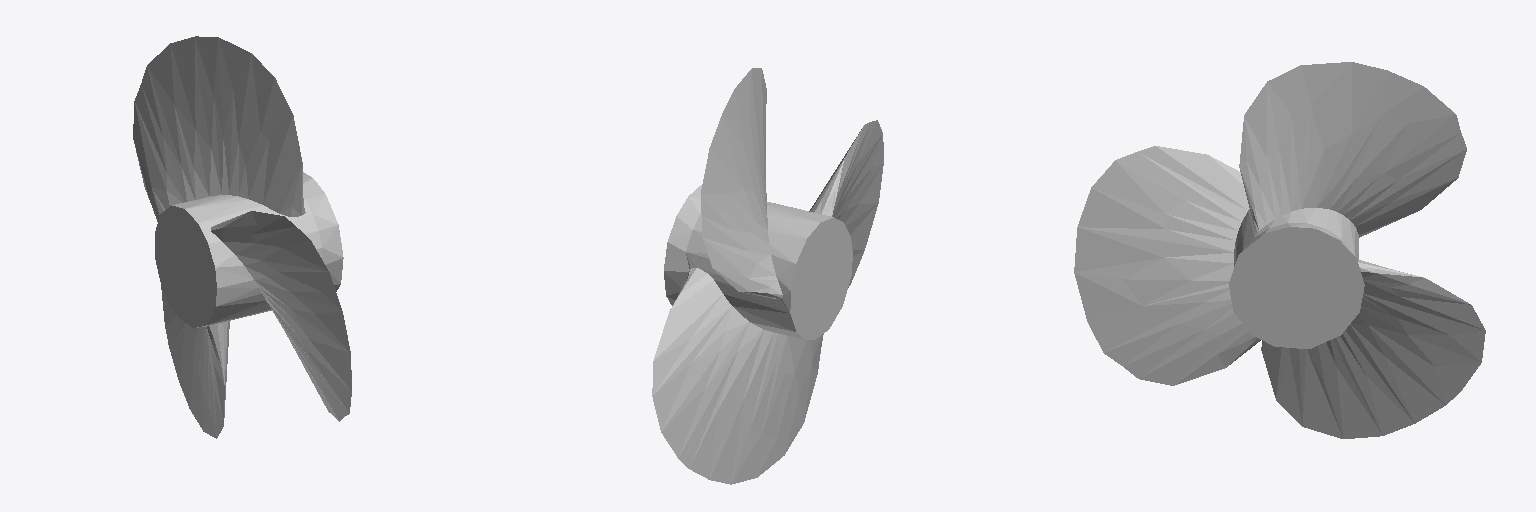
Rendered from zest_propeller_L_ct_mass.obj.
3 views of the same model, side by side, from view 1: azimuth 30°, elevation 25°; view 2: azimuth 150°, elevation 25°; view 3: azimuth 270°, elevation 25° (orthographic).
Parts seen in each view (by area): view 1: 40HP_BOAT_MOTOR.007; view 2: 40HP_BOAT_MOTOR.007; view 3: 40HP_BOAT_MOTOR.007.
Boxes of the visible parts, x1,y1,x2,y2 form: 40HP_BOAT_MOTOR.007: [133, 36, 351, 438]; 40HP_BOAT_MOTOR.007: [652, 68, 883, 484]; 40HP_BOAT_MOTOR.007: [1074, 62, 1485, 438].
Size of the model in its own units: 0.1098 by 0.3279 by 0.316.